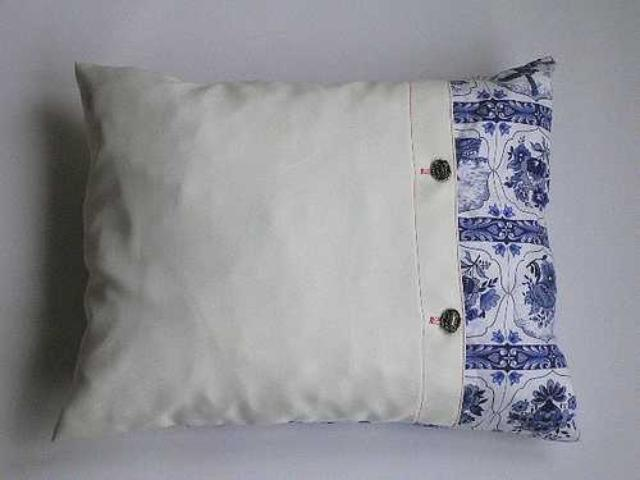pillow: (50, 54, 578, 444)
